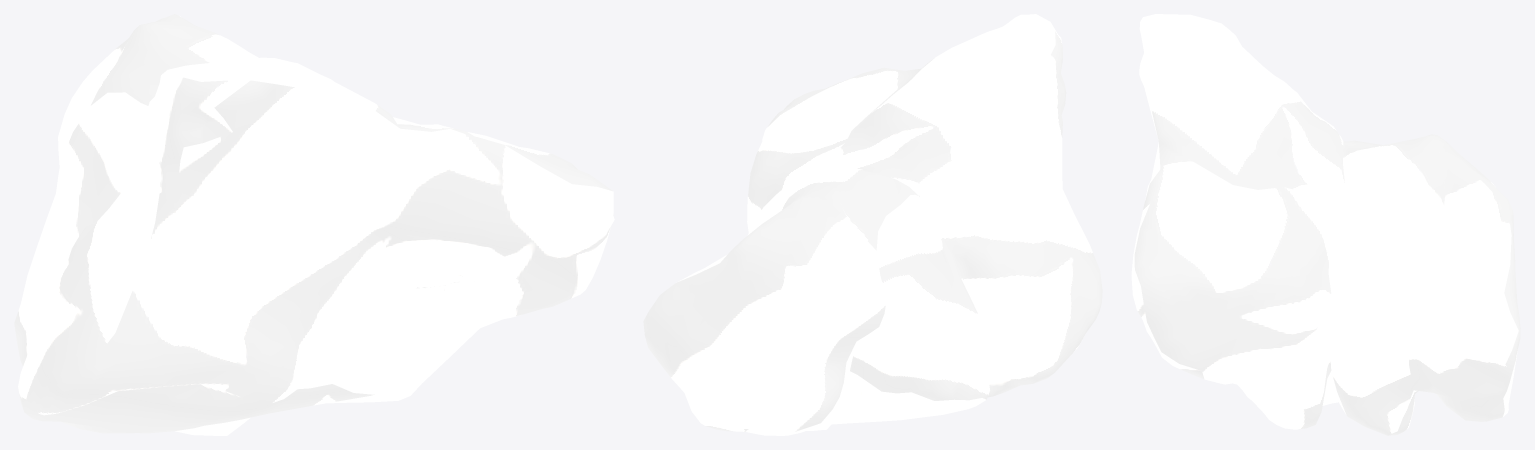
Rendered from rock3.glb.
3 renders of one model, left to right at view 1: azimuth 30°, elevation 25°; view 2: azimuth 150°, elevation 25°; view 3: azimuth 270°, elevation 25°, orthographic. The views are drawn at different scales.
Visible parts, largest first — view 1: Rock3; view 2: Rock3; view 3: Rock3.
Boxes of the visible parts, box(x1,y1,x2,y2) form: Rock3: box(14, 14, 614, 435); Rock3: box(643, 14, 1102, 435); Rock3: box(1131, 14, 1520, 435).
Bounding box in the file's own units: 4.31 × 4.05 × 4.09.
Materials: 1 (1 with a texture image).
